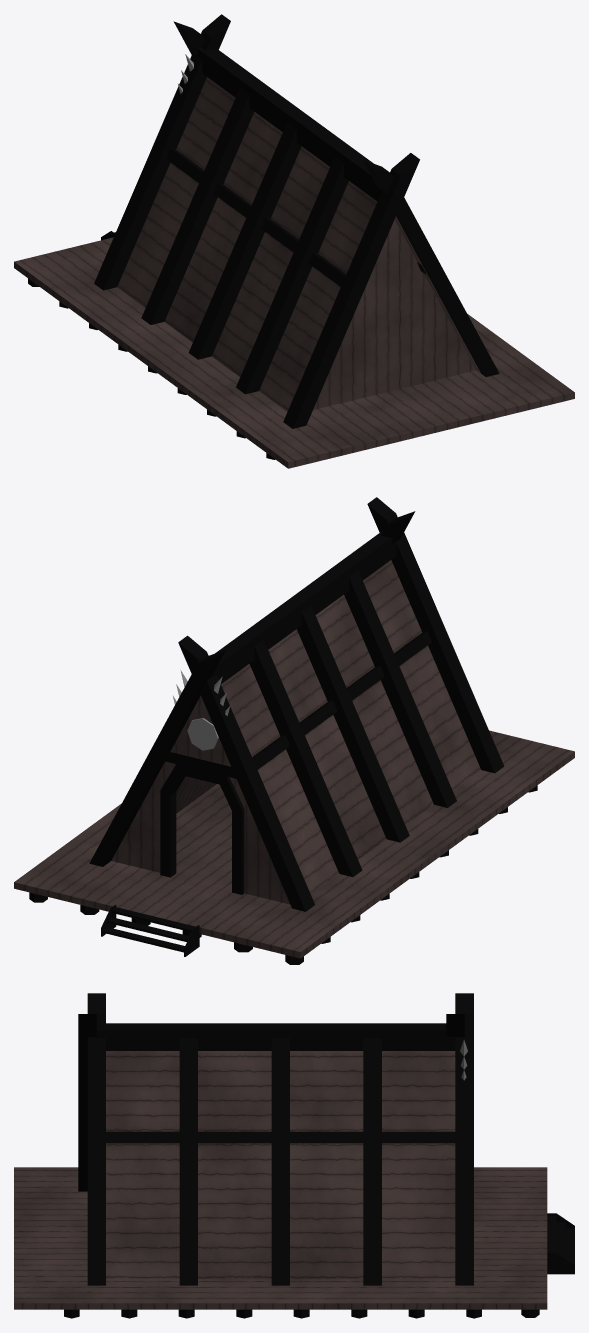
File: dom_1_model_1.fbx
The picture shows the model from 3 angles, top to bottom: view 1: azimuth 30°, elevation 25°; view 2: azimuth 150°, elevation 25°; view 3: azimuth 270°, elevation 25°; orthographic projection. The views are drawn at different scales.
Parts seen in each view (by area): view 1: Plane.033; view 2: Plane.033; view 3: Plane.033.
Boxes of the visible parts, x1,y1,x2,y2 form: Plane.033: [14, 14, 574, 468]; Plane.033: [14, 497, 574, 964]; Plane.033: [14, 993, 574, 1318].
Bounding box in the file's own units: 700 × 601 × 1220.
Materials: 3 (1 with a texture image).
